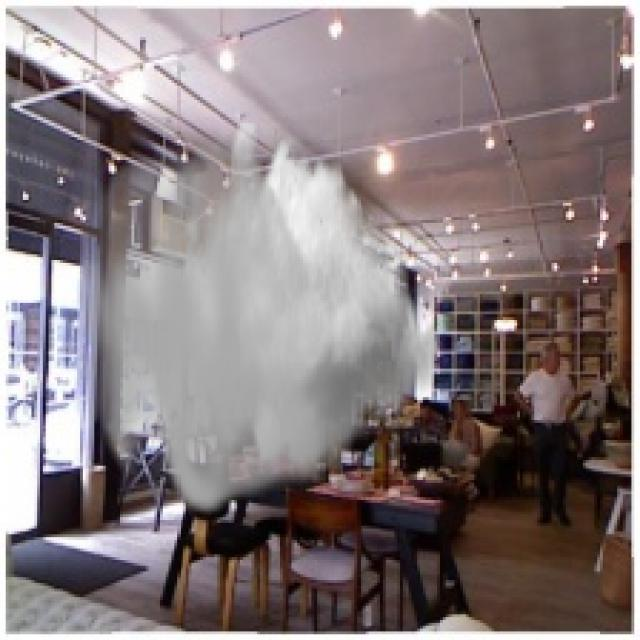smoke: (77, 123, 443, 520)
